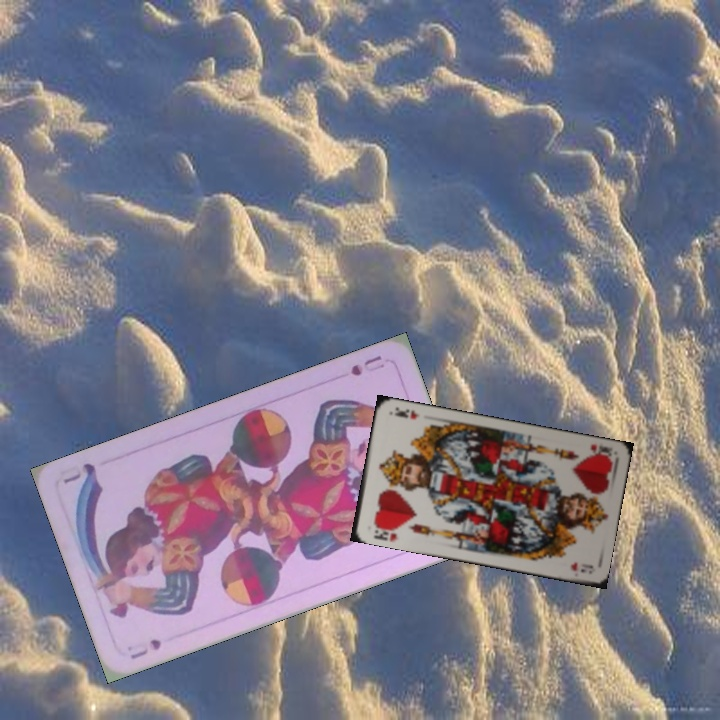HK: (369, 520, 400, 544), (586, 440, 615, 462)
SU: (346, 351, 387, 379), (126, 635, 164, 662)
